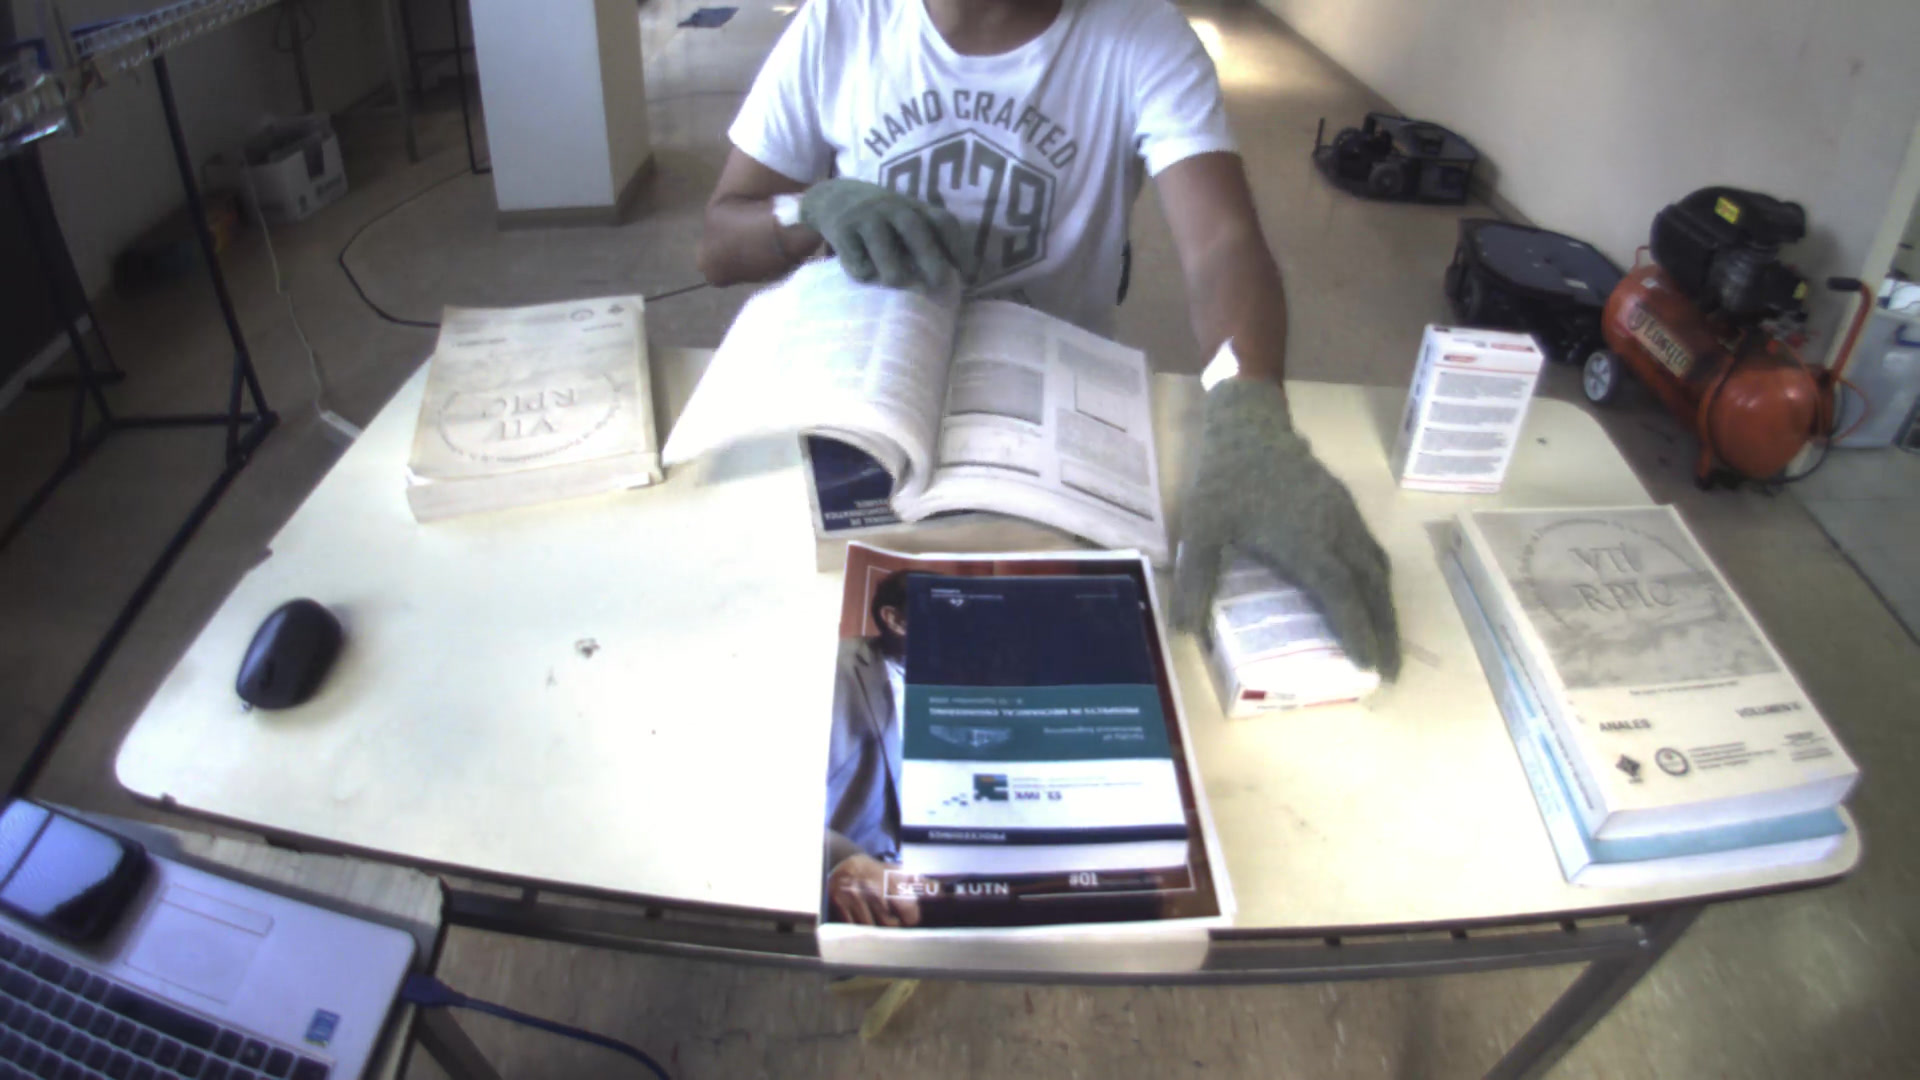hand: (1164, 372, 1418, 665), (793, 162, 967, 286)
